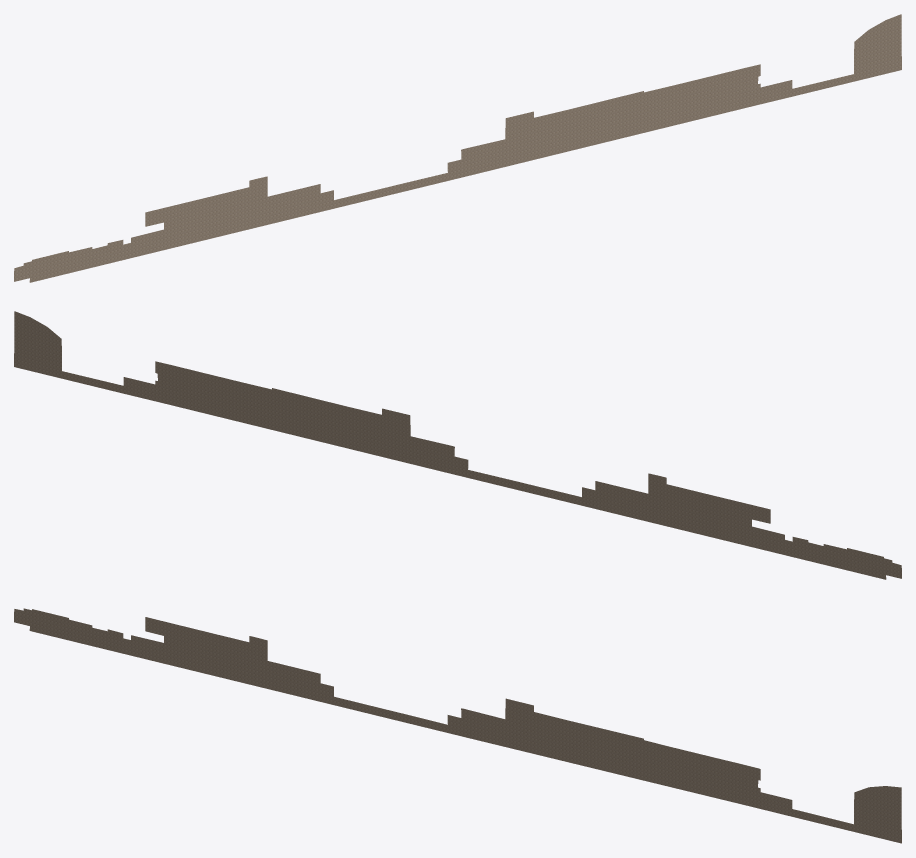
Rendered from floor_20.obj.
3 renders of one model, top to bottom at view 1: azimuth 30°, elevation 25°; view 2: azimuth 150°, elevation 25°; view 3: azimuth 330°, elevation 25°, orthographic.
Parts seen in each view (by area): view 1: floor_20; view 2: floor_20; view 3: floor_20.
Boxes of the visible parts, <box> form: floor_20: <box>14,14,901,282</box>; floor_20: <box>14,311,901,579</box>; floor_20: <box>14,608,901,843</box>.
Size of the model in its own units: 251 by 15.17 by 0.1.
Materials: 1 (1 with a texture image).
